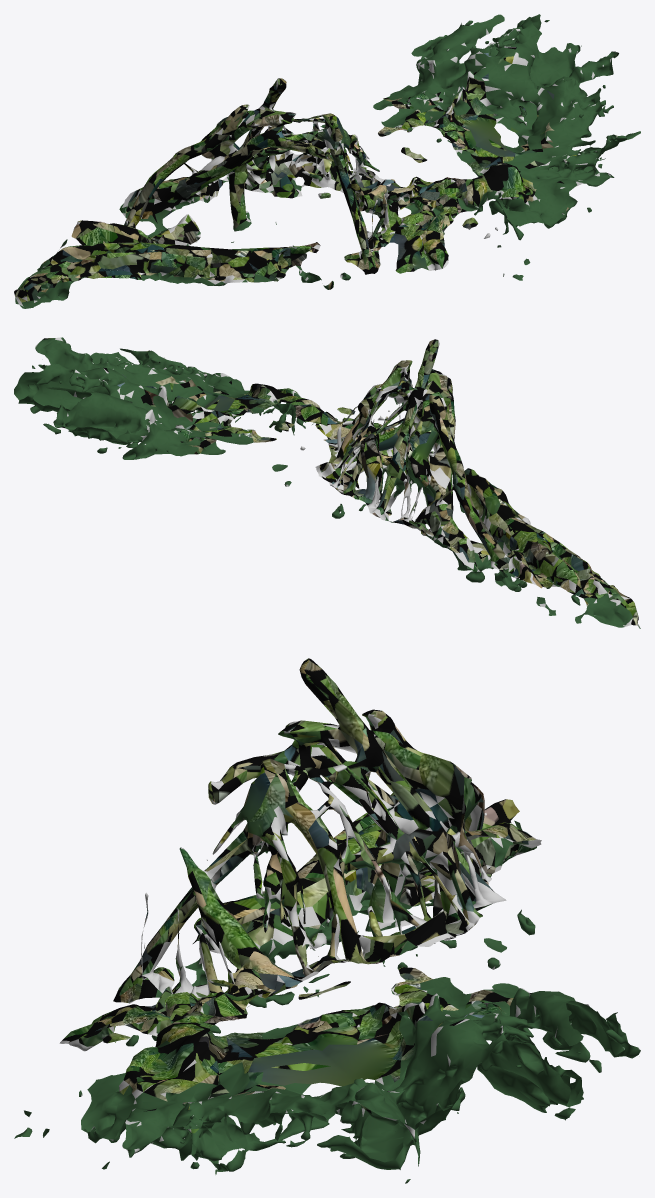
Rendered from sticks.obj.
3 renders of one model, top to bottom at view 1: azimuth 30°, elevation 25°; view 2: azimuth 150°, elevation 25°; view 3: azimuth 270°, elevation 25°, orthographic. The views are drawn at different scales.
Size of the model in its own units: 6.37 by 2.05 by 3.22.
